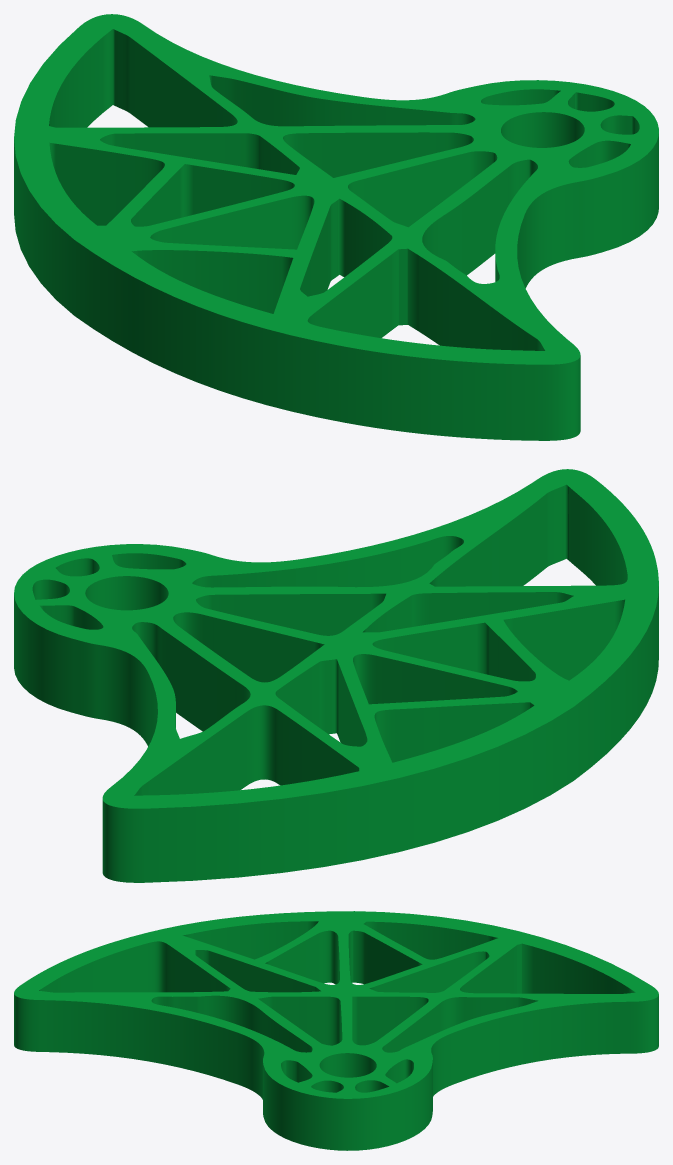
The model's file is fan.fbx.
3 renders of one model, top to bottom at view 1: azimuth 30°, elevation 25°; view 2: azimuth 150°, elevation 25°; view 3: azimuth 270°, elevation 25°, orthographic. The views are drawn at different scales.
Visible parts, largest first — view 1: Curve.004; view 2: Curve.004; view 3: Curve.004.
Boxes of the visible parts, <box> form: Curve.004: <box>14,14,658,440</box>; Curve.004: <box>14,469,658,882</box>; Curve.004: <box>14,911,658,1150</box>.
Bounding box in the file's own units: 31.05 × 4 × 45.06.
